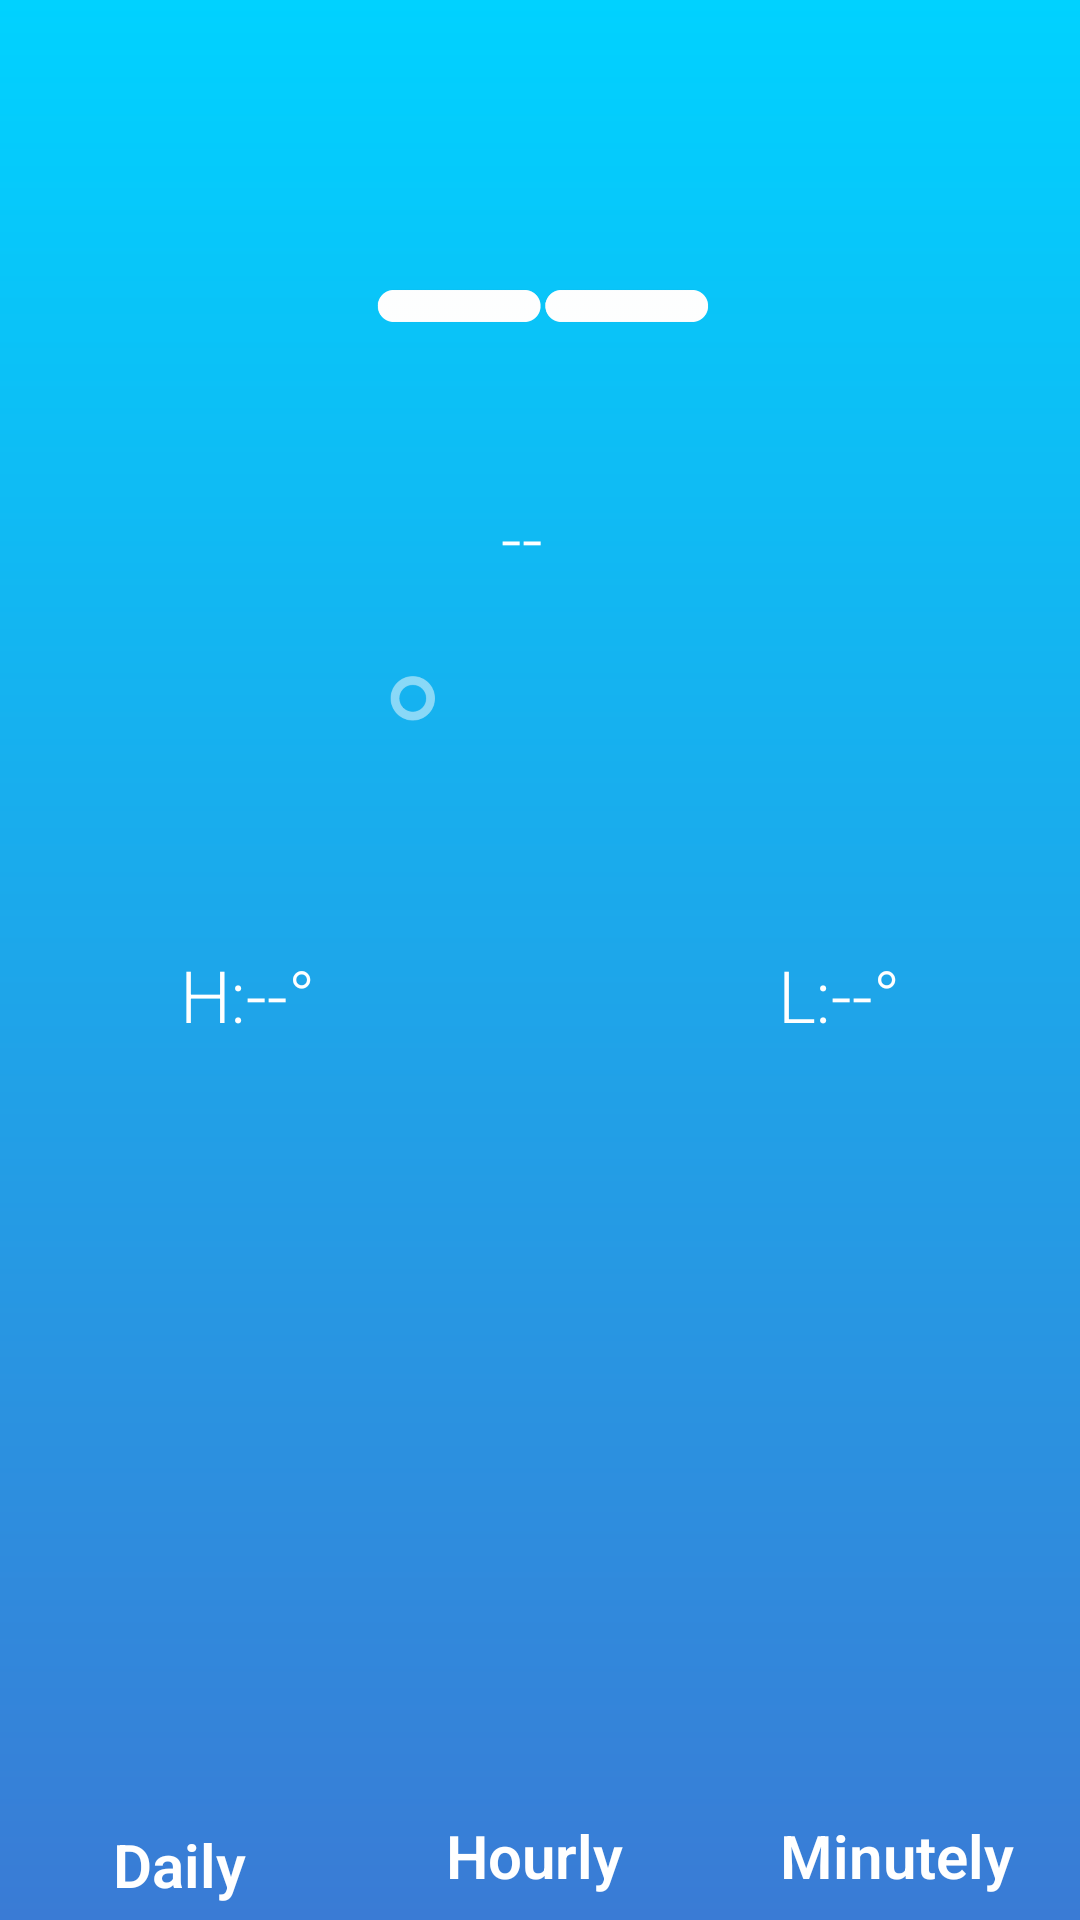

Named icons in this screenshot (1080w x 1920h) and their bounding boxes, (x1, y1, x2, y2):
degree: (390, 676, 435, 721)
